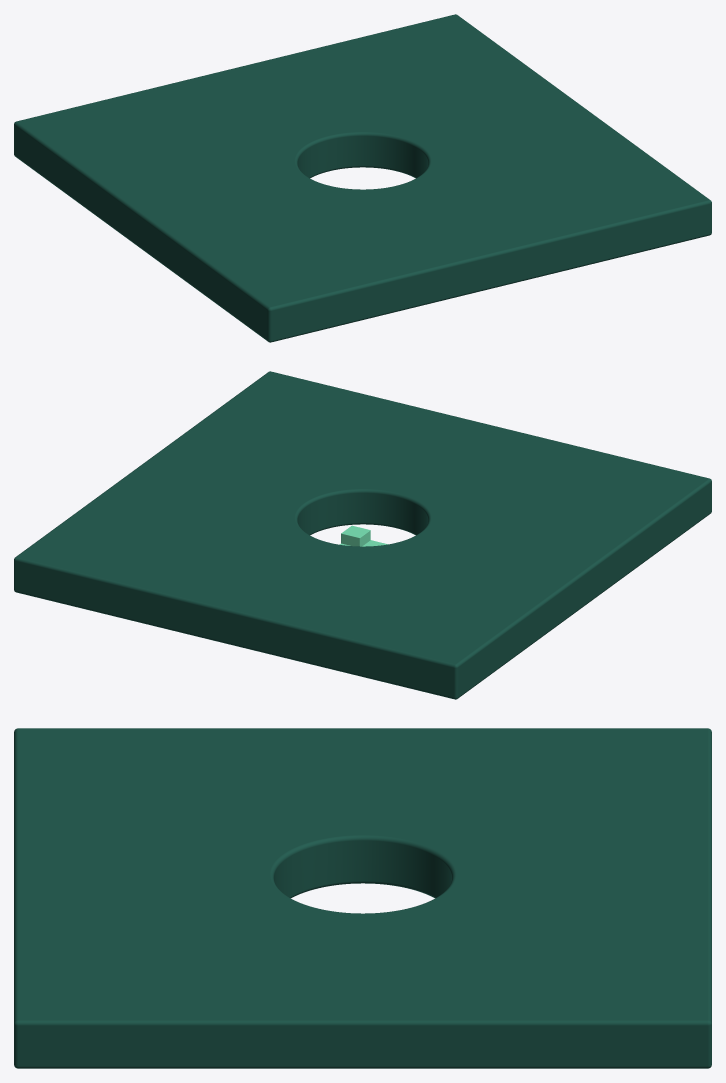
Rendered from t-nua.glb.
3 renders of one model, top to bottom at view 1: azimuth 30°, elevation 25°; view 2: azimuth 150°, elevation 25°; view 3: azimuth 270°, elevation 25°, orthographic. The views are drawn at different scales.
Parts seen in each view (by area): view 1: Plane.001; view 2: Plane.001; view 3: Plane.001.
Boxes of the visible parts, left/top/right/bottom form: Plane.001: left=14, top=14, right=711, bottom=342; Plane.001: left=14, top=371, right=711, bottom=699; Plane.001: left=14, top=728, right=711, bottom=1068.
Size of the model in its own units: 14.09 by 1.84 by 14.09.
